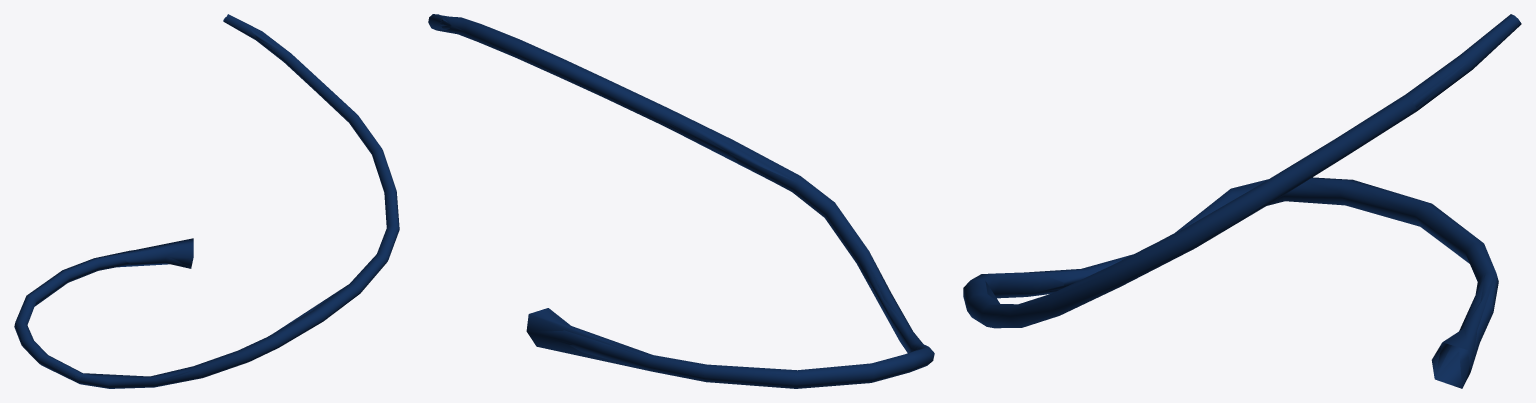
Rendered from R vena circumflexa humeri.fbx.
3 views of the same model, side by side, from view 1: azimuth 30°, elevation 25°; view 2: azimuth 150°, elevation 25°; view 3: azimuth 270°, elevation 25° (orthographic). The views are drawn at different scales.
Parts seen in each view (by area): view 1: R vena circumflexa humeri, R vena circumflexa humeri low; view 2: R vena circumflexa humeri, R vena circumflexa humeri low; view 3: R vena circumflexa humeri, R vena circumflexa humeri low.
Part boxes in pixels (<box>): R vena circumflexa humeri: <box>14,14,399,388</box>; R vena circumflexa humeri low: <box>17,30,381,386</box>; R vena circumflexa humeri: <box>428,14,934,388</box>; R vena circumflexa humeri low: <box>431,17,921,375</box>; R vena circumflexa humeri: <box>963,14,1521,387</box>; R vena circumflexa humeri low: <box>975,16,1513,388</box>.
Size of the model in its own units: 10.24 by 7.24 by 8.01.
